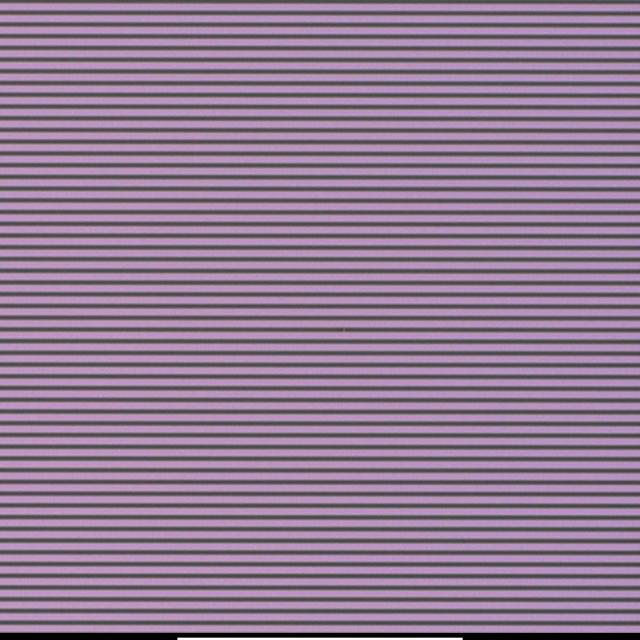03_intrusion: (341, 321, 353, 339)
